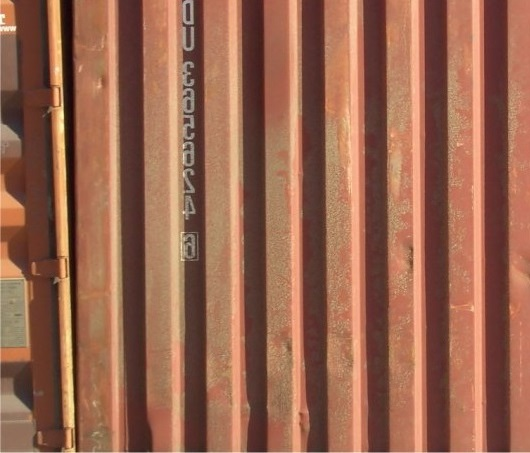container_no_door: (42, 1, 529, 442)
